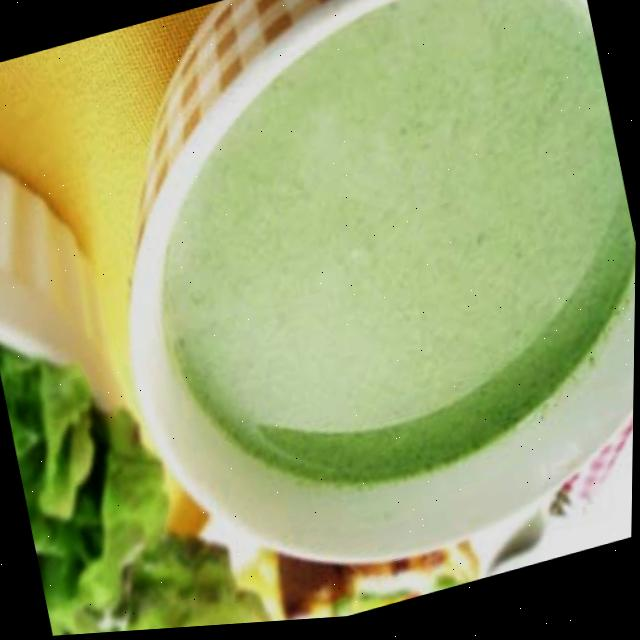汤锅炖物: (52, 0, 640, 637)
